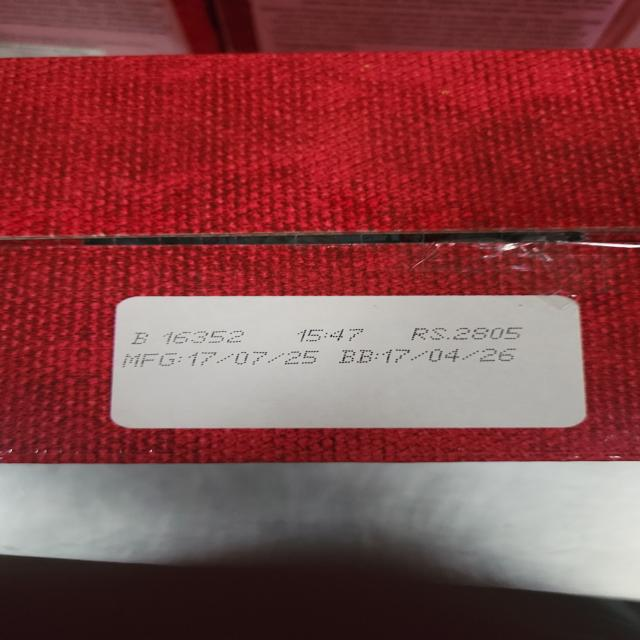BB: (338, 348, 519, 365)
Batch: (130, 330, 250, 344)
MFG: (123, 351, 315, 368)
RS: (412, 326, 525, 341)
TimeStamp: (296, 329, 366, 342)
